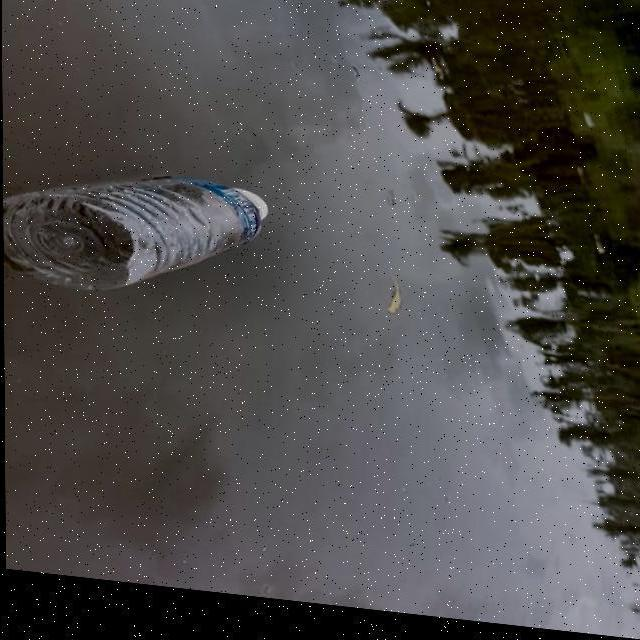Bottle: (0, 164, 280, 302)
